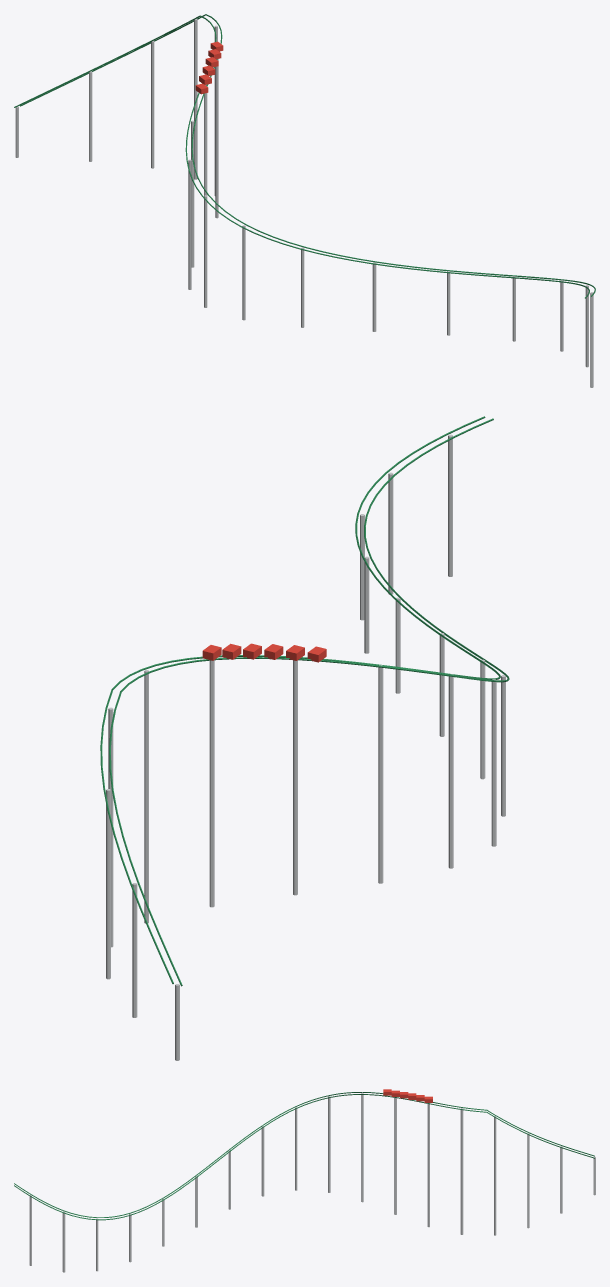
File: coaster_section.glb
3 views of the same model, one above another, from view 1: azimuth 30°, elevation 25°; view 2: azimuth 150°, elevation 25°; view 3: azimuth 270°, elevation 25° (orthographic). The views are drawn at different scales.
Parts seen in each view (by area): view 1: coaster; view 2: coaster; view 3: coaster.
Part boxes in pixels (<box>): coaster: <box>14,14,595,387</box>; coaster: <box>100,416,509,1060</box>; coaster: <box>14,1089,595,1272</box>.
Bounding box in the file's own units: 48.49 × 34.25 × 140.
